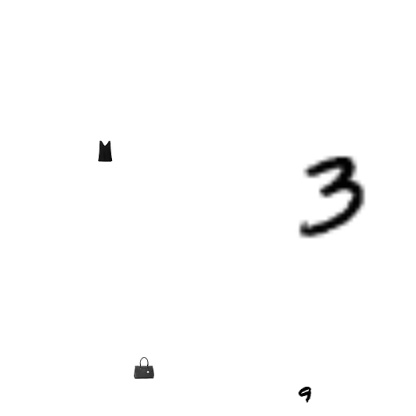3: (280, 137, 392, 249)
9: (294, 382, 316, 404)
Bag: (133, 357, 155, 379)
Shirt: (94, 140, 116, 162)
